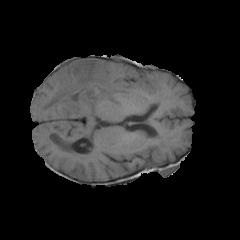glioma: (41, 58, 131, 115)
